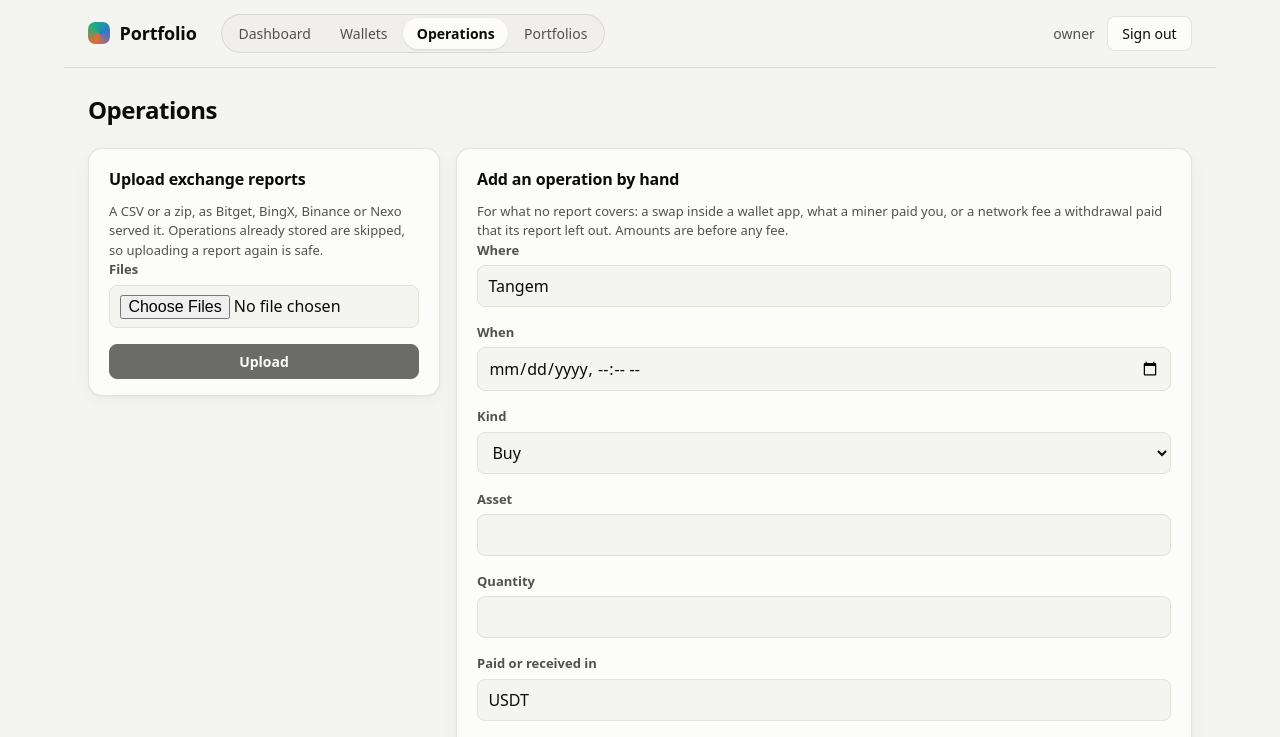
OperationsPage: a reward or a network fee by hand › falls back to a buy for a kind it does not offer
The width and height of the screenshot is (1280, 737).
Expected: the heading "Operations" is shown, [88,94,217,126]
Select "Reward" in the dropdown labelled "Kind" at (824, 453), box [477,432,1171,474]
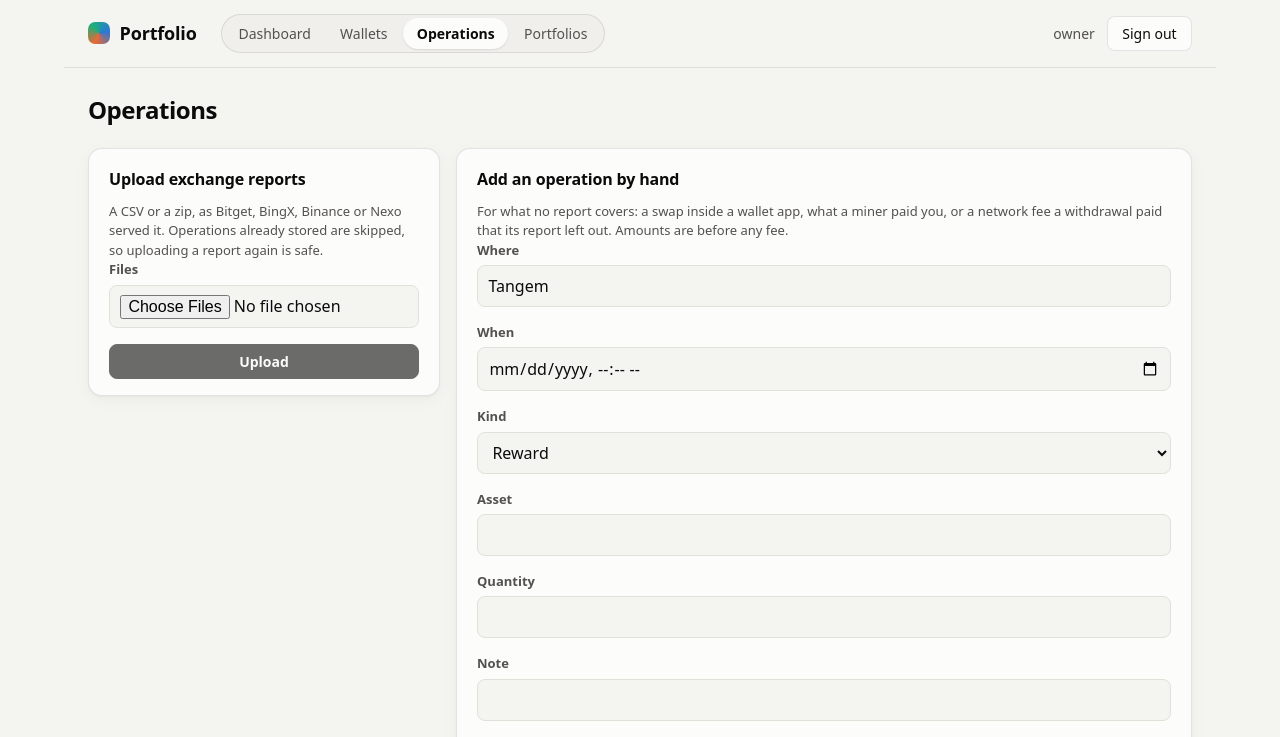
Expected: the label labelled "Paid or received in" is gone
Select "deposit" in the dropdown labelled "Kind" at (824, 453), box [477,432,1171,474]
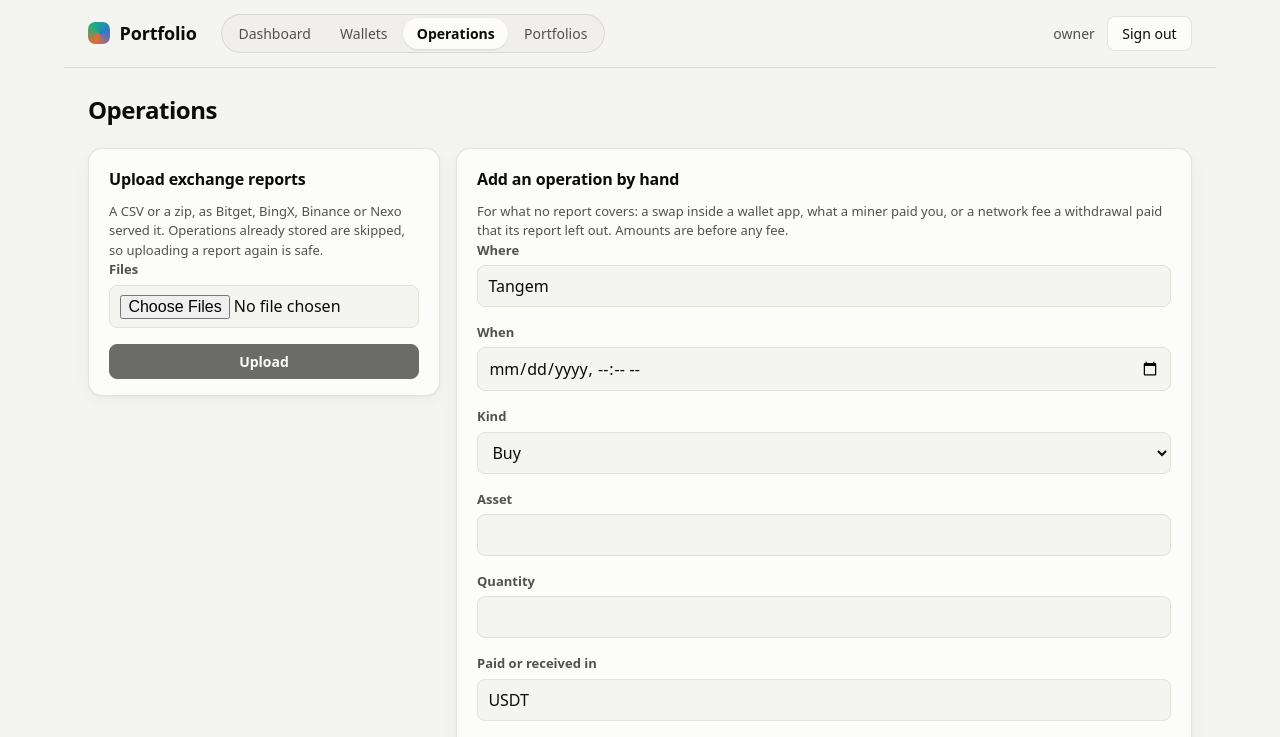
Expected: the field labelled "Paid or received in" is shown, [477,678,1171,720]
